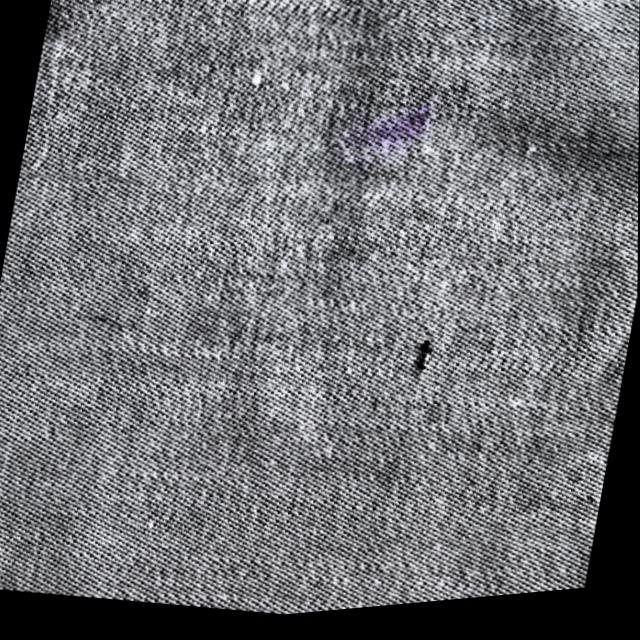Hole: (416, 345, 431, 385)
